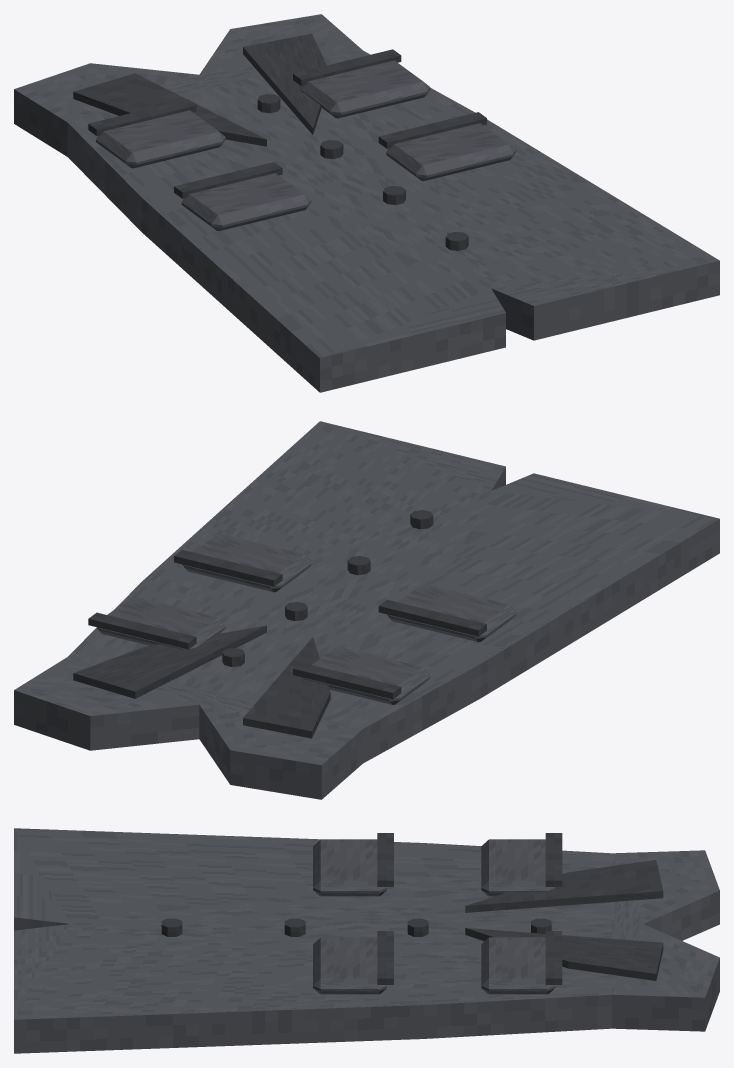
The model's file is sleeveless_duster.glb.
3 renders of one model, top to bottom at view 1: azimuth 30°, elevation 25°; view 2: azimuth 150°, elevation 25°; view 3: azimuth 270°, elevation 25°, orthographic.
Parts seen in each view (by area): view 1: block_coat body, block_patch pocket (×4), block_lapel (×2), block_pocket welt (×4); view 2: block_coat body, block_patch pocket (×4), block_lapel (×2), block_pocket welt (×4); view 3: block_coat body, block_patch pocket (×4), block_lapel (×2), block_pocket welt (×4), block_button (×3).
Part boxes in pixels (x1,y1,x2,y2): block_coat body: [14, 14, 719, 392]; block_patch pocket (×4): [96, 60, 515, 230]; block_lapel (×2): [73, 33, 326, 146]; block_pocket welt (×4): [88, 49, 486, 198]; block_coat body: [14, 421, 719, 799]; block_patch pocket (×4): [97, 533, 515, 704]; block_lapel (×2): [73, 625, 330, 738]; block_pocket welt (×4): [88, 550, 486, 699]; block_coat body: [14, 828, 719, 1053]; block_patch pocket (×4): [313, 839, 555, 994]; block_lapel (×2): [465, 860, 663, 980]; block_pocket welt (×4): [377, 833, 562, 984]; block_button (×3): [161, 918, 428, 936].
Bounding box in the file's own units: 0.5034 × 0.0639 × 0.7842.
Materials: 1 (1 with a texture image).
